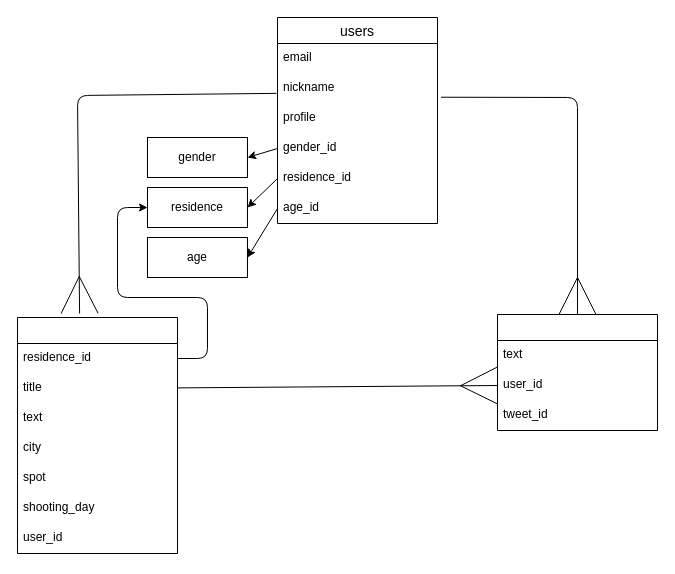
This 675x574 diagram has some shape labels left out. The shapes that lost their labels are listed below. From the top down, each one's box as (x1, y1, x2, y2) in pixels, then its label:
(496, 314, 658, 430): comments
(16, 316, 178, 554): tweets
